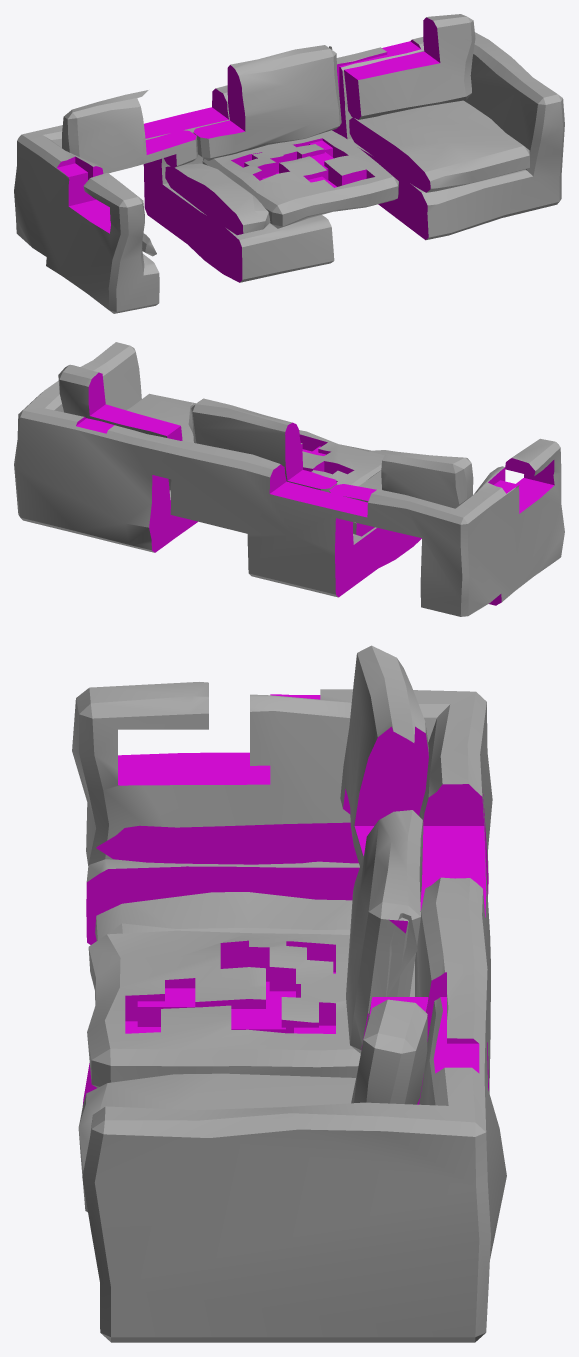
Rendered from Couch_Glitch.fbx.
3 views of the same model, one above another, from view 1: azimuth 30°, elevation 25°; view 2: azimuth 150°, elevation 25°; view 3: azimuth 270°, elevation 25° (orthographic). The views are drawn at different scales.
Parts seen in each view (by area): view 1: Couch_Glitch; view 2: Couch_Glitch; view 3: Couch_Glitch.
Boxes of the visible parts, x1,y1,x2,y2 form: Couch_Glitch: (14,14,564,313); Couch_Glitch: (14,342,564,616); Couch_Glitch: (72,645,506,1342).
Bounding box in the file's own units: 5.06 × 1.58 × 2.09.
